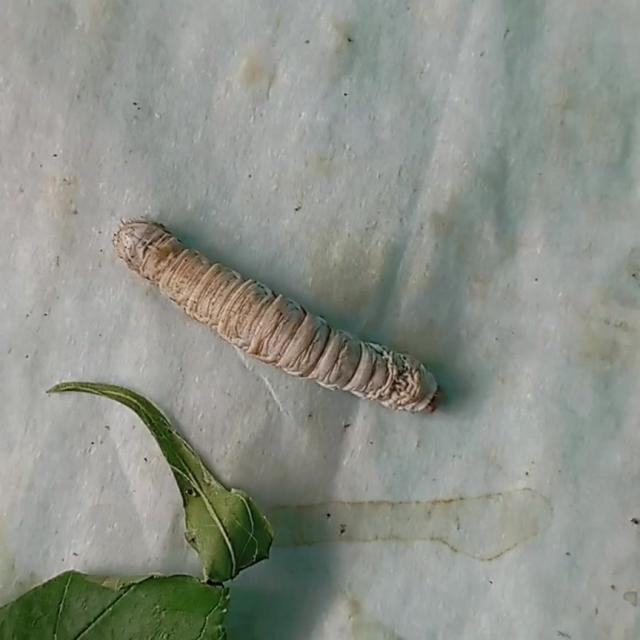Grasserie: (92, 184, 458, 455)
